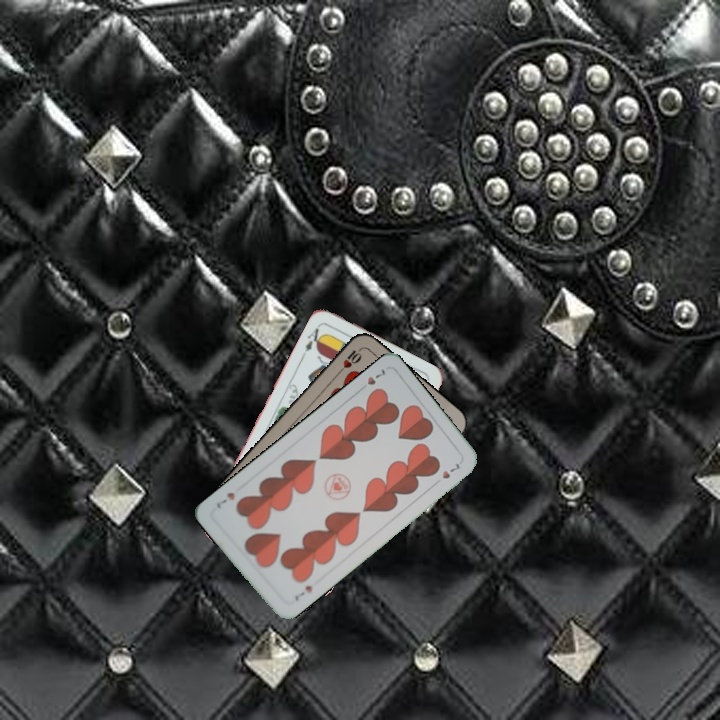EA: (301, 321, 327, 354)
H10: (333, 344, 365, 377)
H7: (363, 365, 388, 388), (290, 581, 315, 604)
